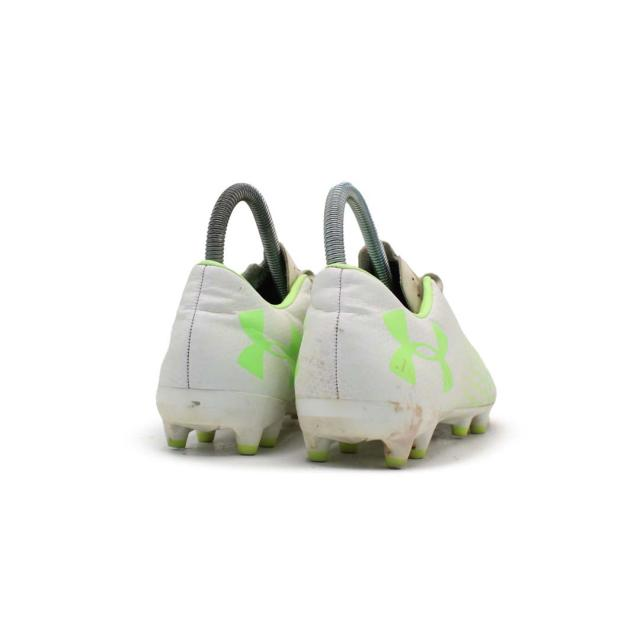heel: (140, 246, 286, 392), (274, 261, 420, 407)
midsole: (297, 401, 491, 468), (157, 390, 289, 461)
